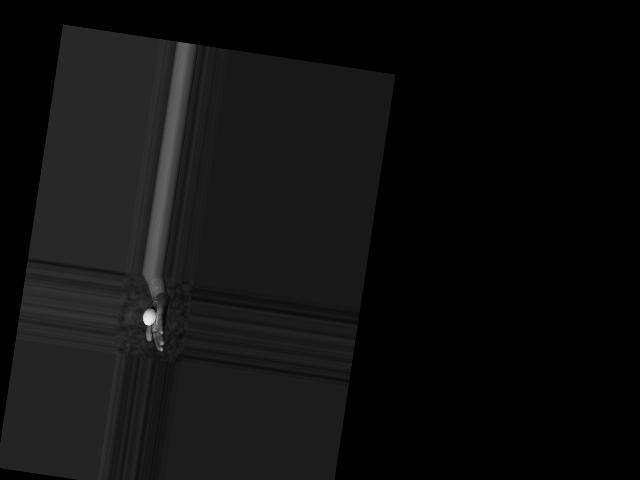egg: (141, 307, 157, 326)
